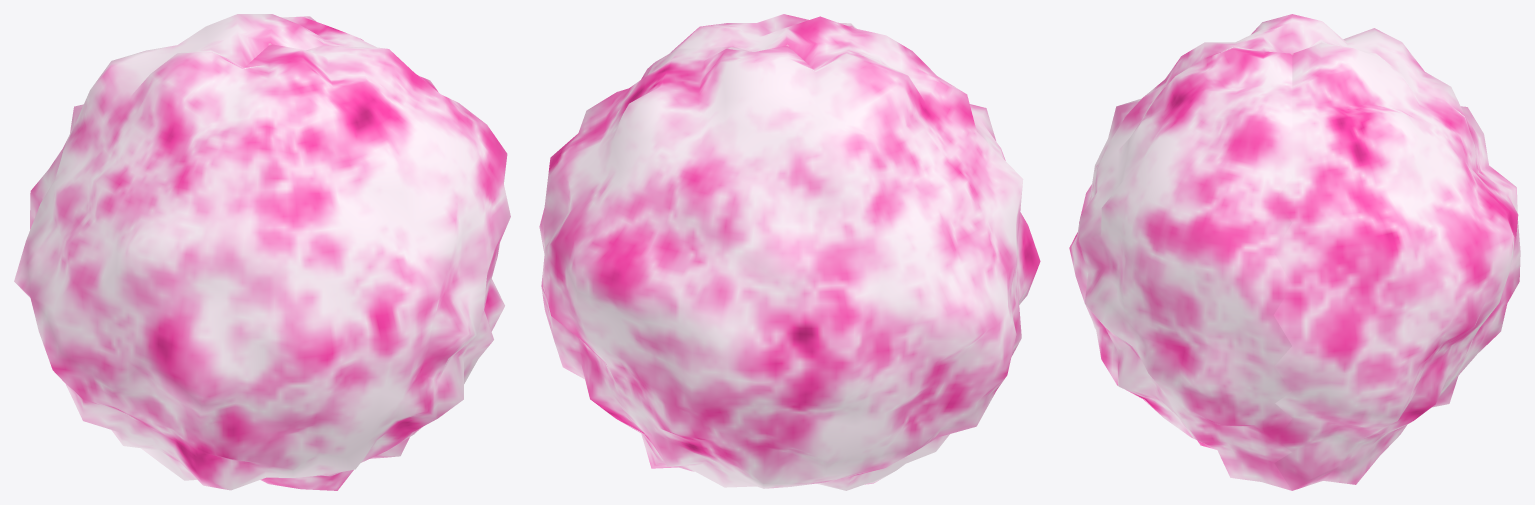
Rendered from fireball_rose.glb.
3 renders of one model, left to right at view 1: azimuth 30°, elevation 25°; view 2: azimuth 150°, elevation 25°; view 3: azimuth 270°, elevation 25°, orthographic. The views are drawn at different scales.
Parts seen in each view (by area): view 1: fireball; view 2: fireball; view 3: fireball.
Boxes of the visible parts, x1,y1,x2,y2 form: fireball: (14, 14, 510, 490); fireball: (539, 14, 1040, 490); fireball: (1069, 14, 1520, 490).
Bounding box in the file's own units: 2.29 × 2.14 × 2.2.
1 material, 1 textured.
